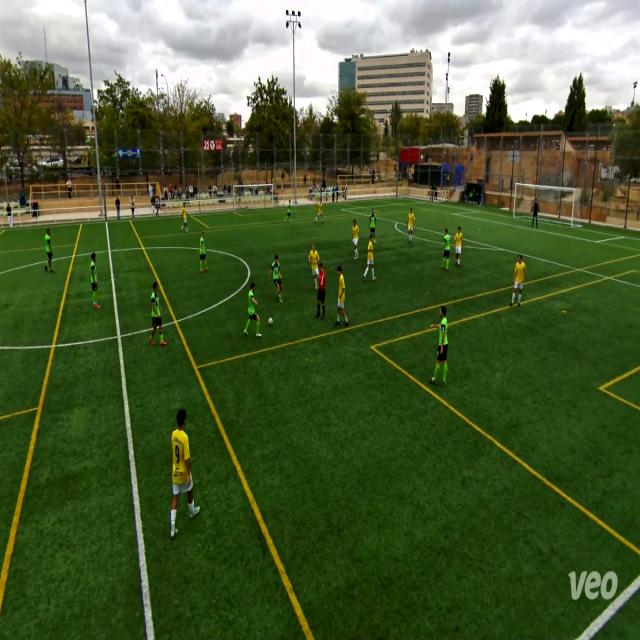bigarea_top_inner: (339, 205, 345, 214)
bigarea_top_outter: (424, 200, 426, 207)
bottom_arc_area_intersection: (495, 243, 506, 254)
corner: (398, 196, 403, 201)
halfcircle_bottom: (110, 326, 128, 346)
halfcircle_top: (104, 242, 116, 259)
midline_top_intersection: (103, 220, 111, 226)
smallarea_bottom_inner: (593, 236, 600, 246)
smallarea_bottom_outter: (620, 232, 627, 242)
smallarea_top_inner: (452, 210, 456, 217)
smallarea_top_outter: (477, 208, 484, 215)
top_arc_area_intersection: (394, 217, 400, 228)
